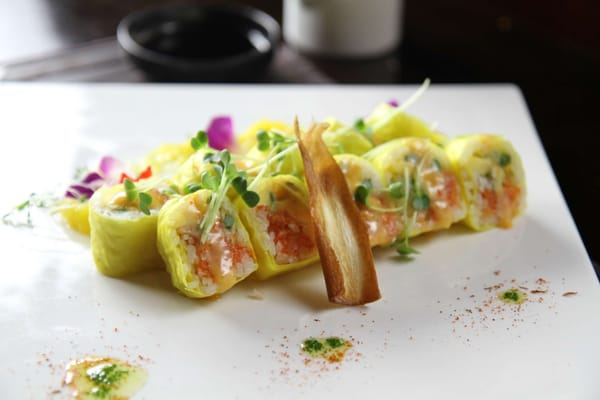sushi: (116, 2, 280, 80), (282, 0, 405, 62)
